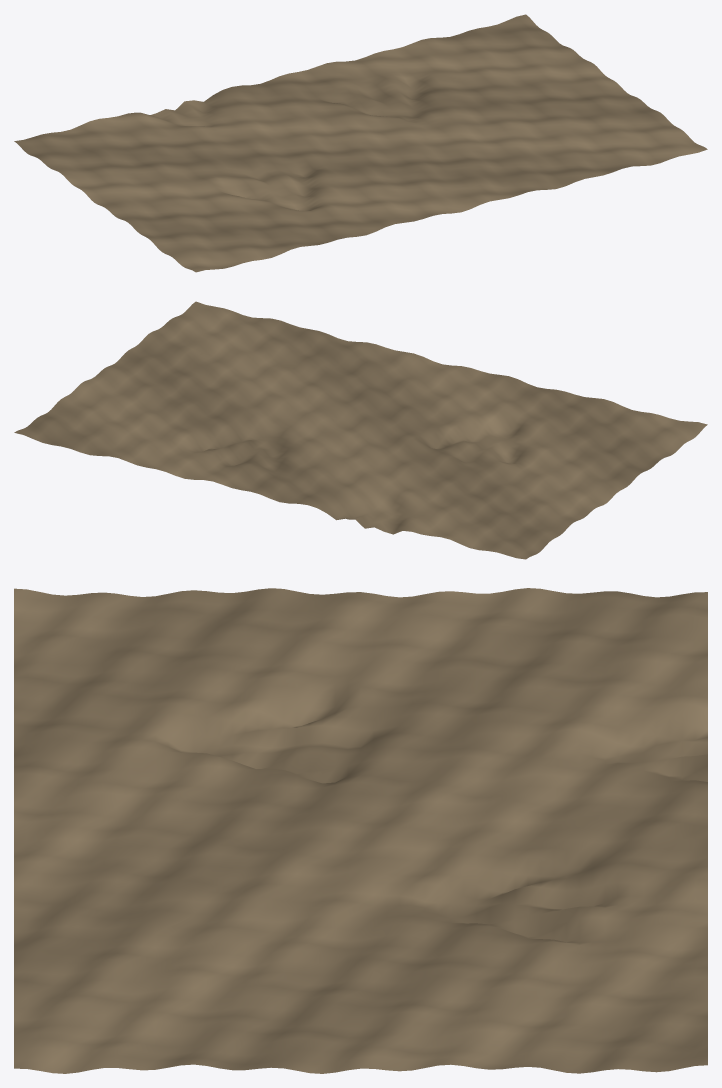
3 renders of one model, top to bottom at view 1: azimuth 30°, elevation 25°; view 2: azimuth 150°, elevation 25°; view 3: azimuth 270°, elevation 25°, orthographic. The views are drawn at different scales.
Parts seen in each view (by area): view 1: D05_SPEC_Matrix sandstone_export; view 2: D05_SPEC_Matrix sandstone_export; view 3: D05_SPEC_Matrix sandstone_export.
Boxes of the visible parts, bbox=[...] form: D05_SPEC_Matrix sandstone_export: bbox=[14, 14, 707, 272]; D05_SPEC_Matrix sandstone_export: bbox=[14, 301, 707, 559]; D05_SPEC_Matrix sandstone_export: bbox=[14, 588, 707, 1073].
Size of the model in its own units: 2.6 by 0.0591 by 1.6.
